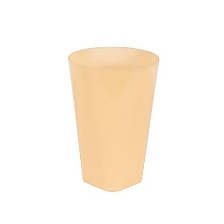glass: (65, 39, 164, 201)
